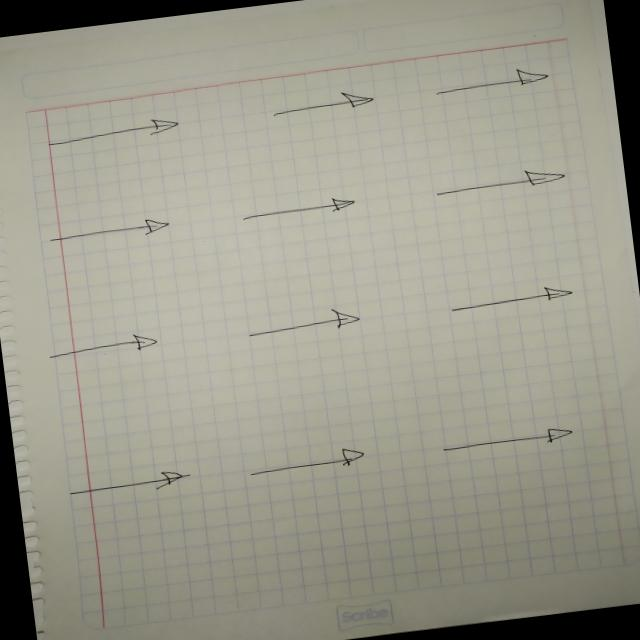arrow_line_up: (415, 240, 469, 336), (242, 144, 297, 232), (53, 169, 104, 254), (46, 59, 90, 153), (420, 352, 470, 428), (266, 379, 317, 452), (260, 265, 307, 342), (378, 12, 423, 92), (388, 132, 436, 204), (94, 404, 135, 474), (223, 38, 260, 114), (78, 283, 108, 373)
